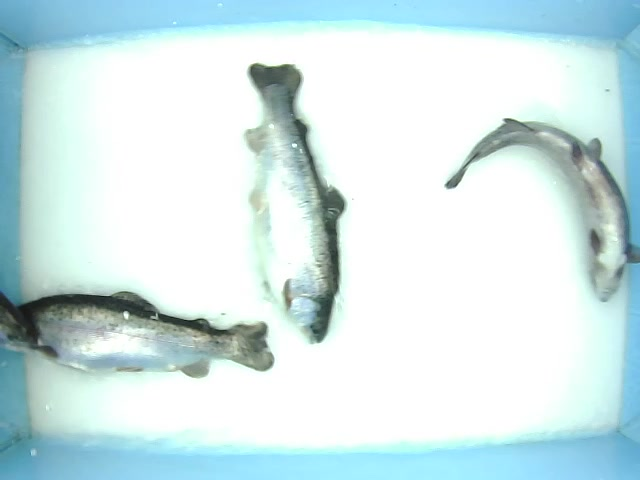fish: (442, 113, 636, 301), (242, 60, 347, 343), (5, 289, 274, 382)
